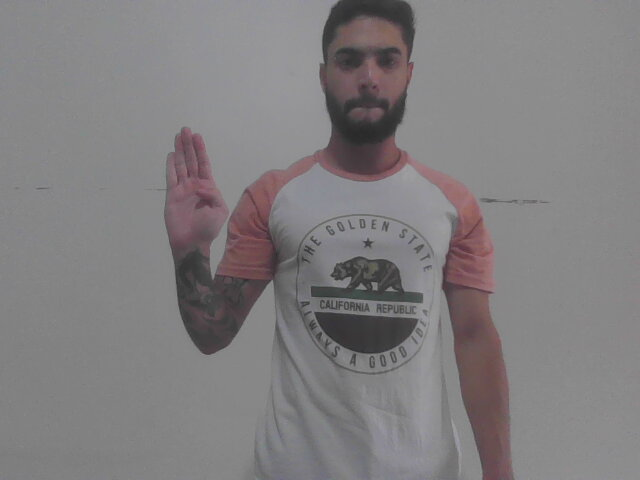b: (162, 124, 228, 252)
